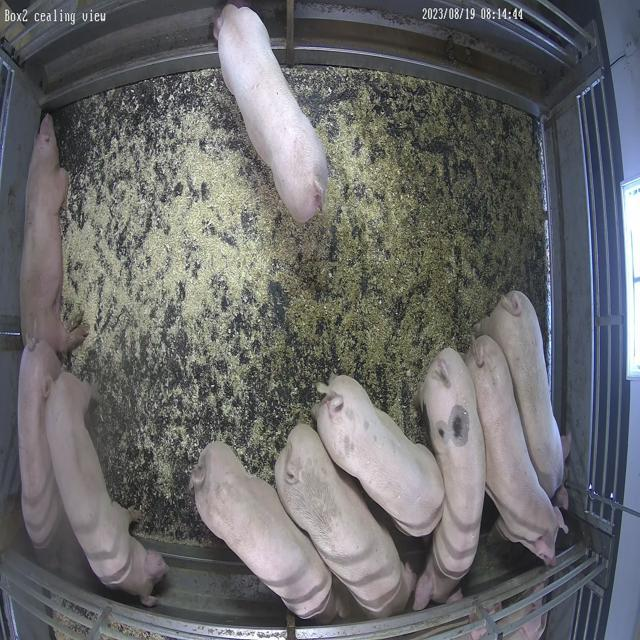Dirt: (276, 68, 546, 438)
Pig: (45, 373, 164, 603), (275, 425, 415, 618), (191, 444, 337, 622), (215, 4, 328, 222), (466, 336, 565, 566), (318, 376, 445, 538), (414, 349, 486, 610), (479, 291, 566, 500), (19, 114, 86, 353), (17, 341, 61, 548)
